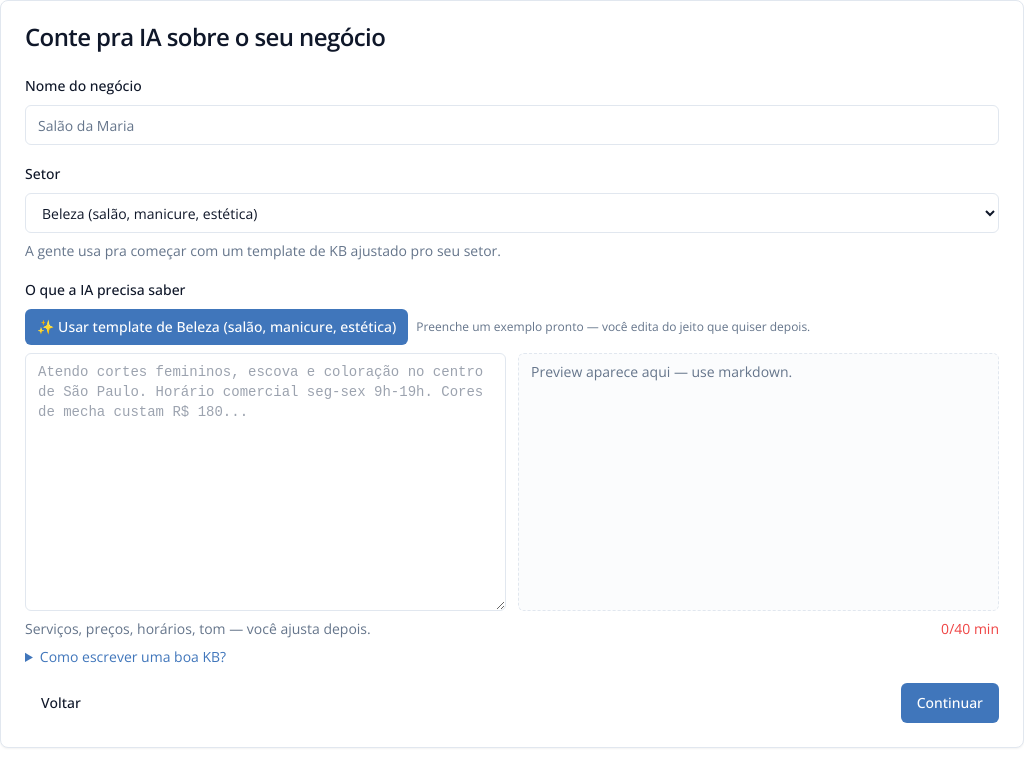
Scenario: KbStepPage › preview renderiza heading h1 quando textarea contém '# titulo'
Type "# titulo" into the text box labelled "O que a IA precisa saber" at (266, 482), box [25, 353, 506, 611]
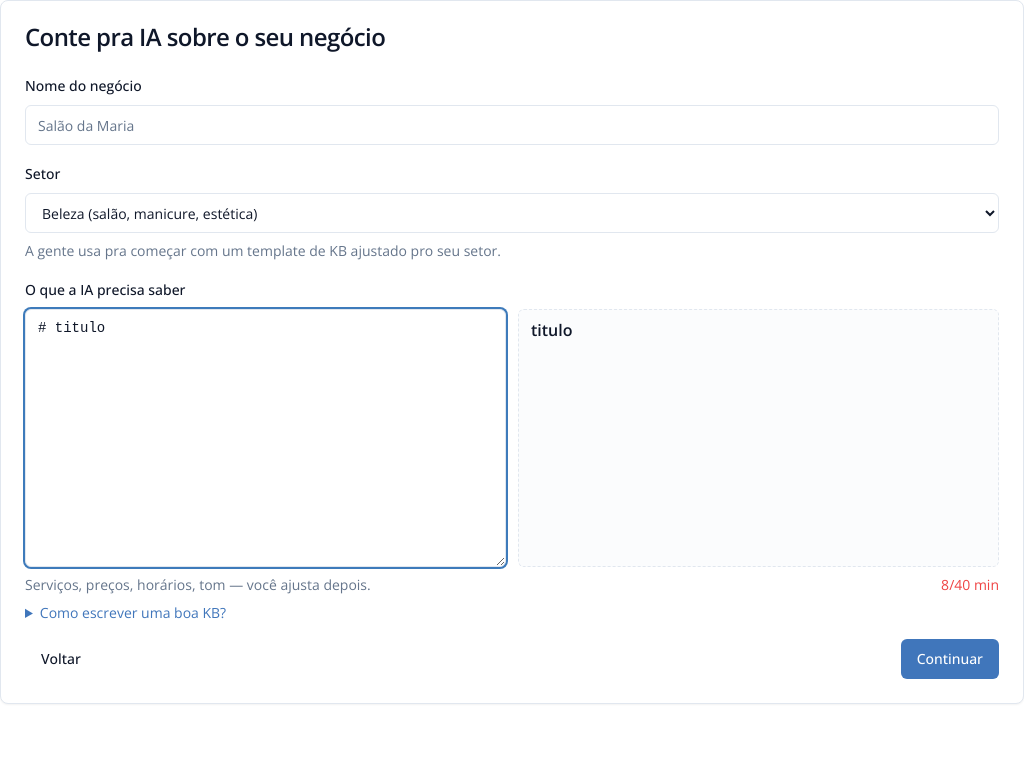
Expected: the heading "titulo" is shown, [531, 319, 572, 341]
